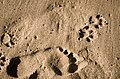human_footprint: (57, 46, 87, 74), (78, 14, 107, 41)
